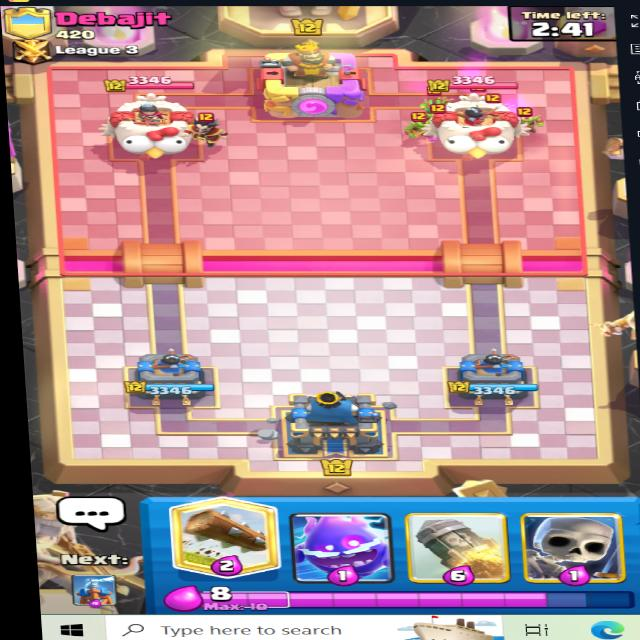electro-wizard: (187, 108, 230, 145)
goblin: (398, 108, 440, 138), (510, 109, 553, 138)
spear-goblin: (416, 90, 449, 117)
